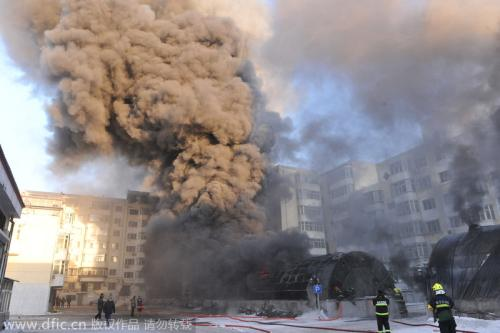smoke: (38, 6, 308, 302)
